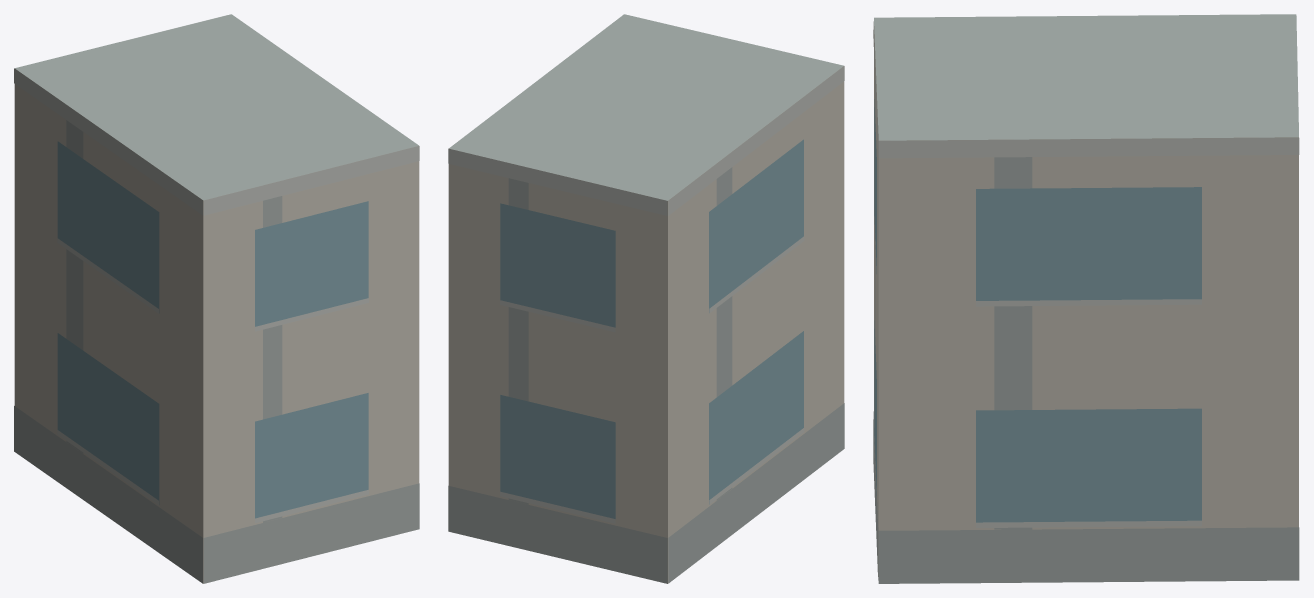
File: survey-upis-32914981.glb
The picture shows the model from 3 angles, left to right: view 1: azimuth 30°, elevation 25°; view 2: azimuth 150°, elevation 25°; view 3: azimuth 270°, elevation 25°; orthographic projection. The views are drawn at different scales.
Parts seen in each view (by area): view 1: survey-upis-32914981.tmp; view 2: survey-upis-32914981.tmp; view 3: survey-upis-32914981.tmp.
Boxes of the visible parts, bbox=[...] form: survey-upis-32914981.tmp: bbox=[14, 14, 419, 583]; survey-upis-32914981.tmp: bbox=[448, 14, 844, 583]; survey-upis-32914981.tmp: bbox=[873, 14, 1299, 583].
Bounding box in the file's own units: 3.75 × 6.1 × 5.32.
